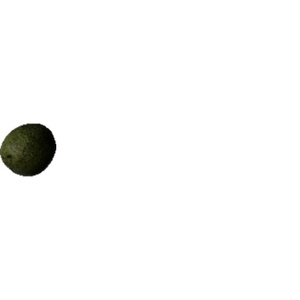abacate: (1, 122, 56, 178)
